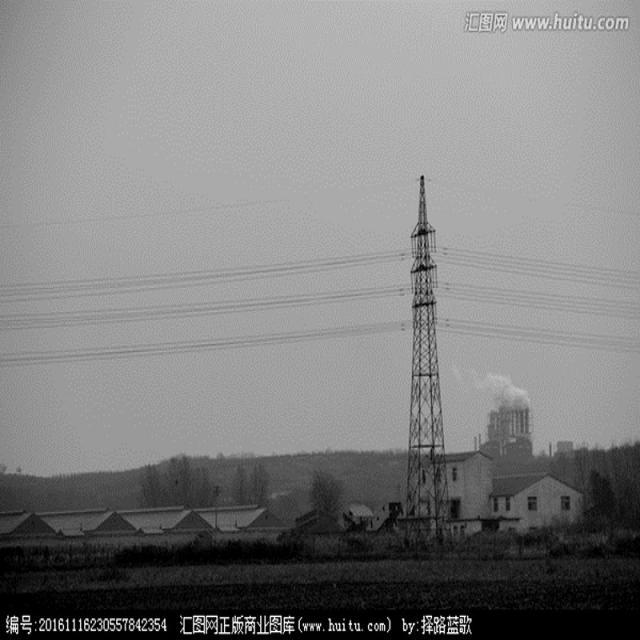non-critical vegetation: (391, 168, 468, 532)
